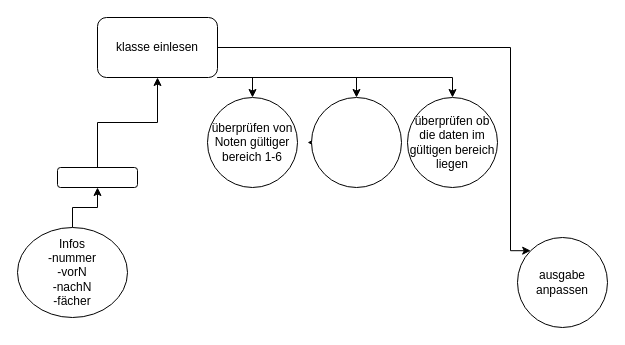
Image size: 625x345. Some labels were removed from this diagram. The centre of each missing label's shape, as x and y in pixels:
durchschnittsnote berechnen: the point at 356,142
Schüler: the point at 97,177
